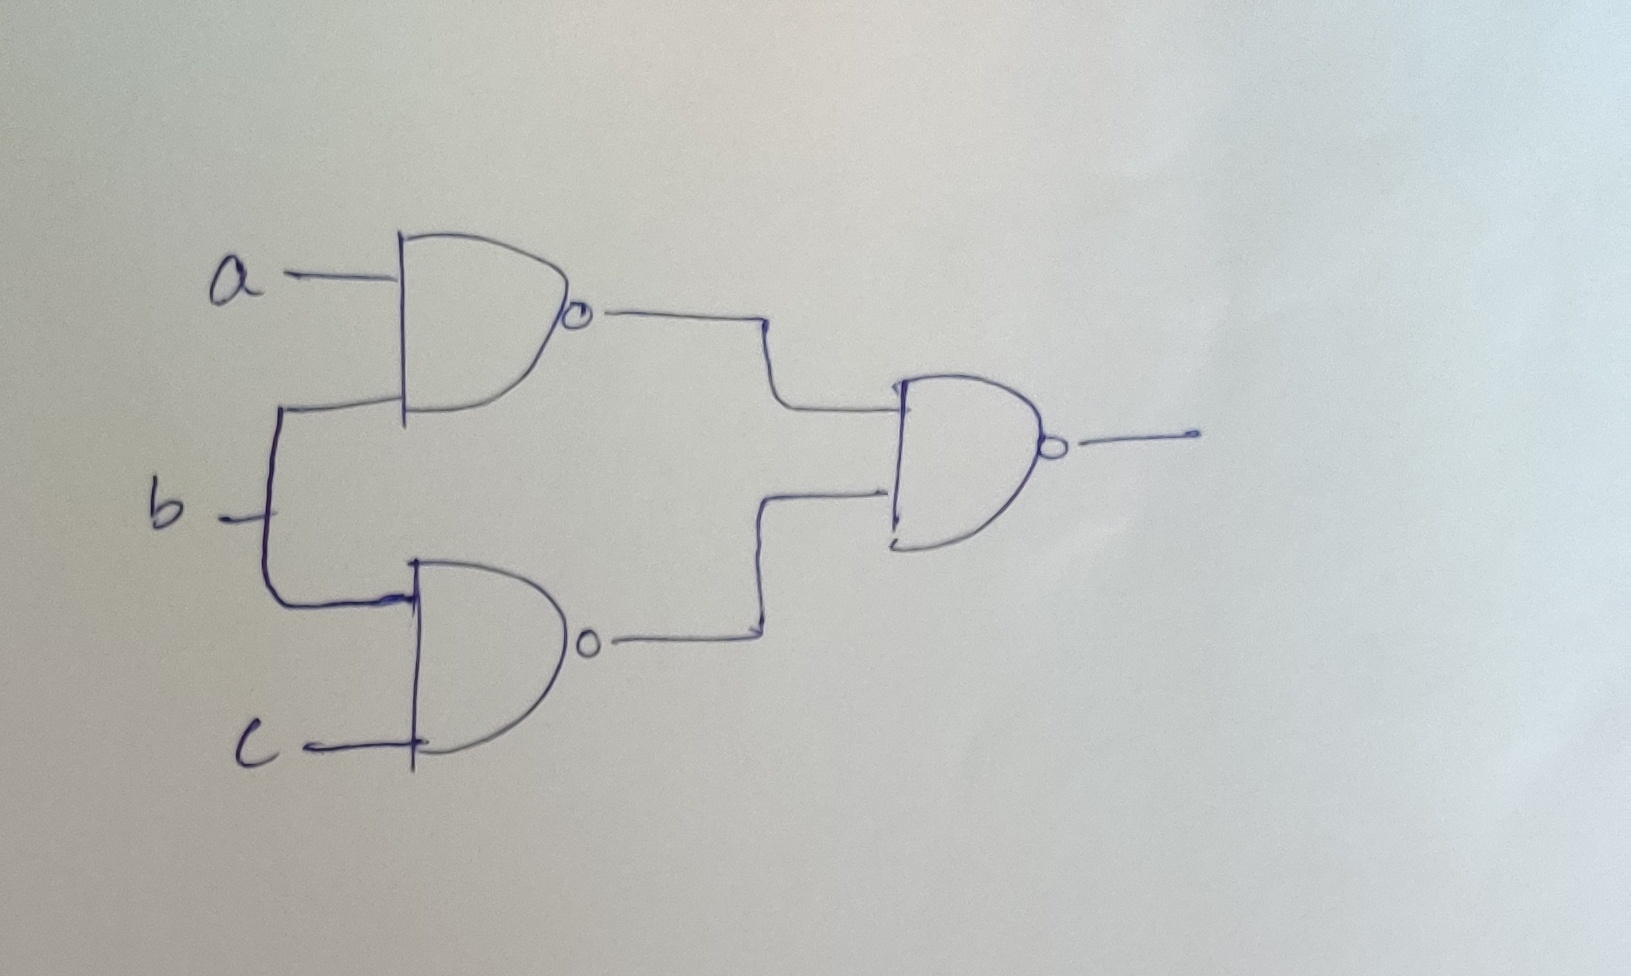nand: (362, 200, 621, 460), (381, 534, 641, 788), (871, 350, 1087, 580)
